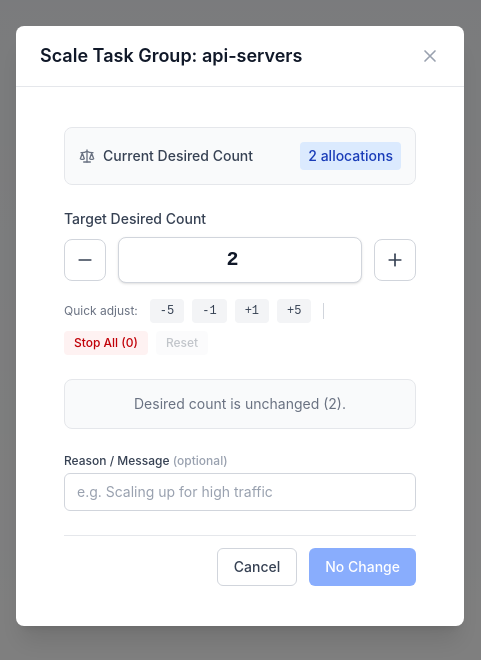
Test: ScaleTaskGroupModal › quick delta buttons adjust count and show correct preview
Click the button "+5": x=294, y=311 [277,299,311,323]
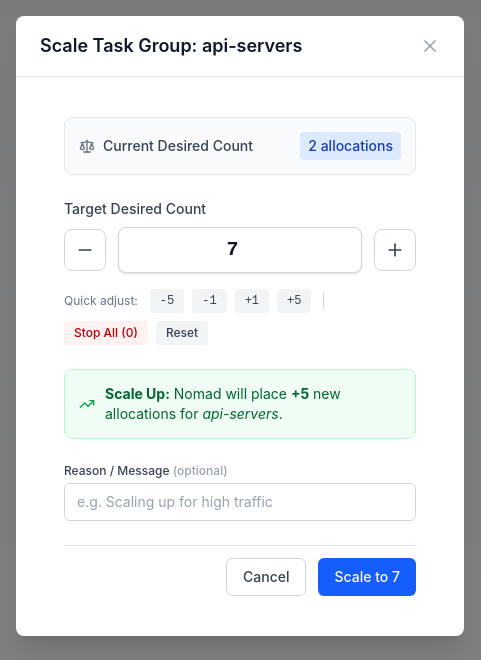
Expected: the button "Scale to 7" is shown, [318,558,416,596]
Click the button "Stop All (0)": x=106, y=333 [64,321,148,345]
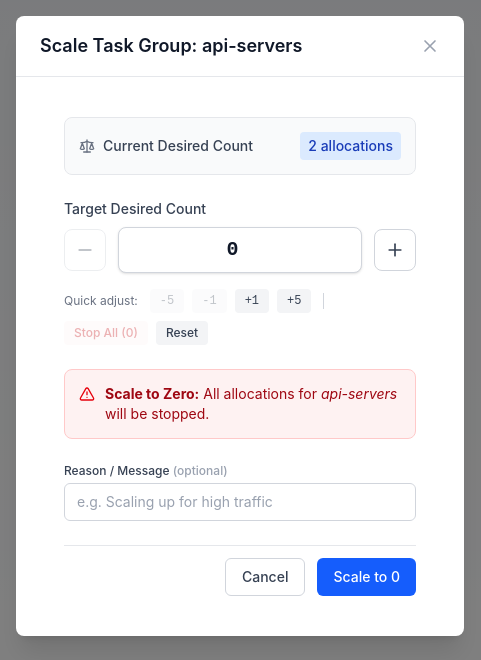
Expected: the text "Scale to Zero:" is shown, [105,385,199,402]
Expected: the button "Scale to 0" is shown, [317,558,416,596]
Click the button "Reset": x=182, y=333 [156,321,208,345]
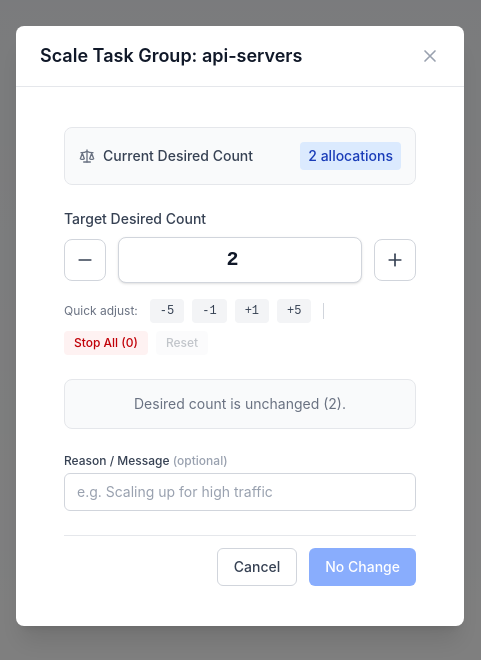
Expected: the text "Desired count is unchanged (2)." is shown, [64,379,416,429]
